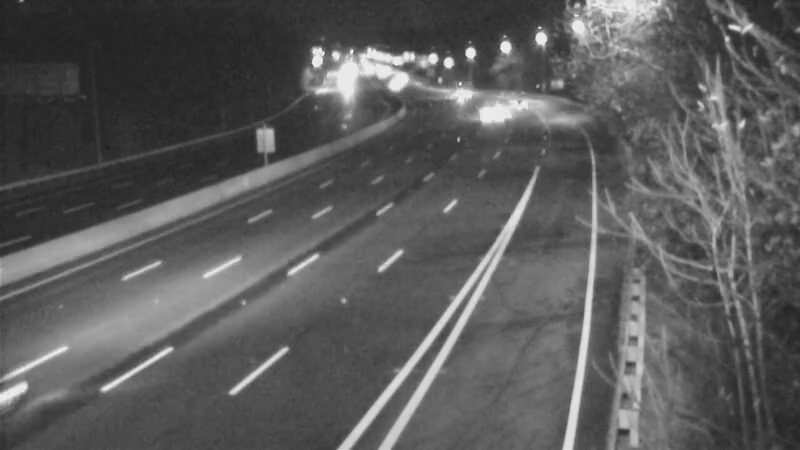vehicle: (435, 67, 485, 117), (491, 79, 541, 129), (461, 89, 511, 139)
